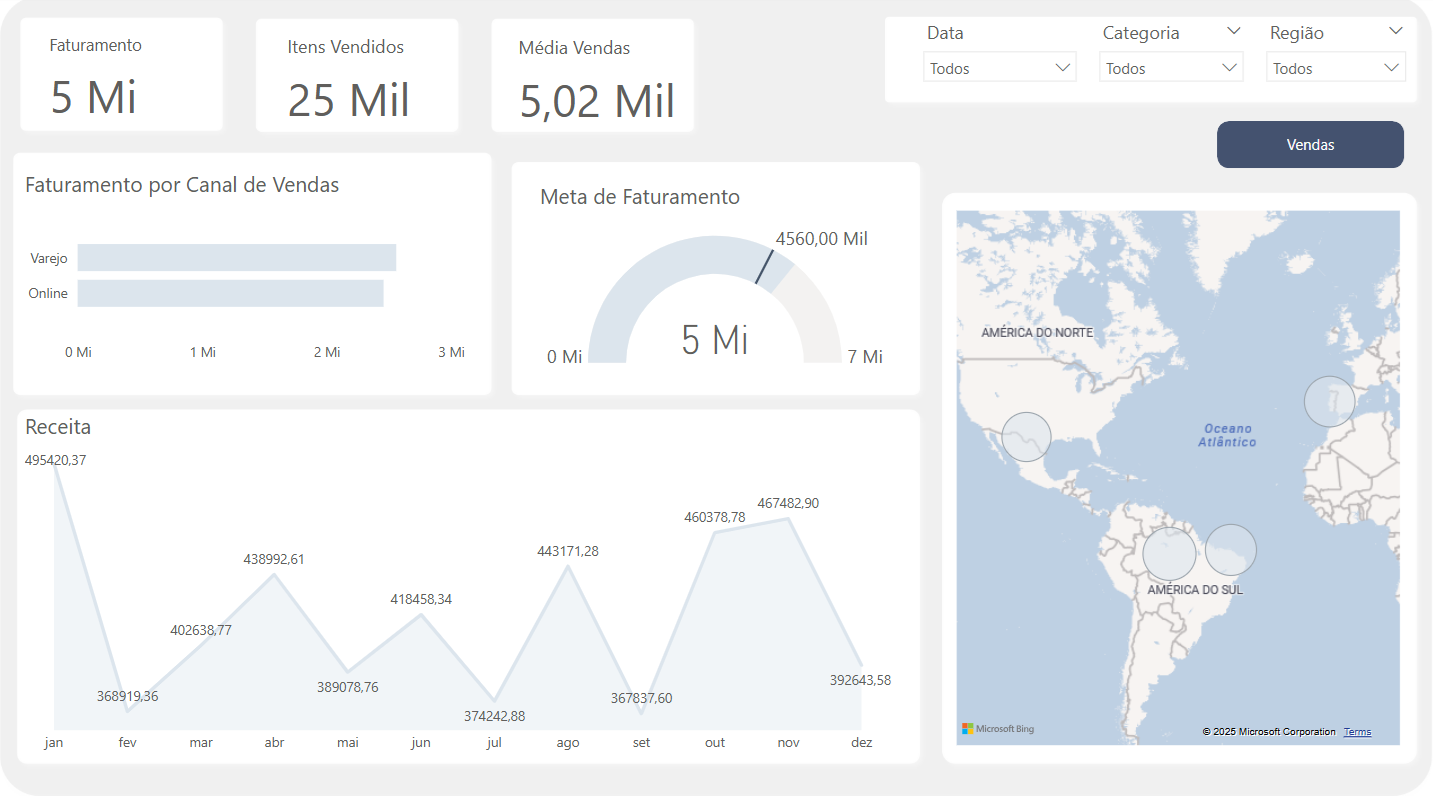

Layout of this report page (visuals, bound fields, positions):
{"tool":"powerbi","page":{"name":"Faturamento","canvas":[1280,720],"ordinal":0},"visuals":[{"type":"cardVisual","fields":{"Data":["Medidas.Faturamento"]},"box":[31.8,16.4,190,94.5],"z":0},{"type":"cardVisual","fields":{"Data":["Medidas.ItensVendidos"]},"box":[242.7,16.4,168.2,101.8],"z":1000},{"type":"gauge","title":"Meta de Faturamento","fields":{"Y":["Medidas.Faturamento"]},"box":[479.1,163.6,320.9,170.9],"z":2000},{"type":"areaChart","title":"Receita","fields":{"Y":["Medidas.Faturamento"],"Category":["Calendario.Nome do mês"]},"box":[21.8,368.2,778.2,311.8],"z":3000},{"type":"slicer","fields":{"Values":["Calendario.Ano","Calendario.Mês"]},"box":[813.6,16.4,156.4,69.1],"z":4000},{"type":"slicer","fields":{"Values":["sales_data.Categoria"]},"box":[970,16.4,148.2,69.1],"z":5000},{"type":"map","fields":{"Category":["sales_data.Região"],"Size":["Medidas.Faturamento"]},"box":[848.2,185.5,402.7,483.6],"z":6000},{"type":"slicer","fields":{"Values":["sales_data.Região"]},"box":[1118.2,16.4,143.6,69.1],"z":7000},{"type":"cardVisual","fields":{"Data":["Medidas.Média Vendas"]},"box":[448.2,17.3,182.7,100.9],"z":8000},{"type":"clusteredBarChart","title":"Faturamento por Canal de Vendas","fields":{"Category":["sales_data.Canal_Vendas"],"Y":["Medidas.Faturamento"]},"box":[21.8,153.6,400,180.9],"z":9000},{"type":"pageNavigator","box":[1084.5,110.9,166.4,42.7],"z":10000}]}

Visuals, with their boxes in screenshot pixels (x1, y1, x2, y2), scaled from the page's 1280x720 canvas onto the 1433x796 screenshot:
cardVisual - Medidas.Faturamento: <region>36, 18, 248, 123</region>
cardVisual - Medidas.ItensVendidos: <region>272, 18, 460, 131</region>
"Meta de Faturamento" gauge: <region>536, 181, 896, 370</region>
"Receita" areaChart: <region>24, 407, 896, 752</region>
slicer - Calendario.Ano x Calendario.Mês: <region>911, 18, 1086, 95</region>
slicer - sales_data.Categoria: <region>1086, 18, 1252, 95</region>
map - sales_data.Região x Medidas.Faturamento: <region>950, 205, 1400, 740</region>
slicer - sales_data.Região: <region>1252, 18, 1413, 95</region>
cardVisual - Medidas.Média Vendas: <region>502, 19, 706, 131</region>
"Faturamento por Canal de Vendas" clusteredBarChart: <region>24, 170, 472, 370</region>
pageNavigator: <region>1214, 123, 1400, 170</region>
